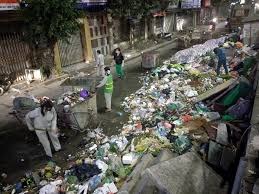garbage: (139, 72, 225, 142), (123, 95, 217, 150), (83, 129, 133, 179), (28, 170, 118, 194), (169, 56, 215, 92)
